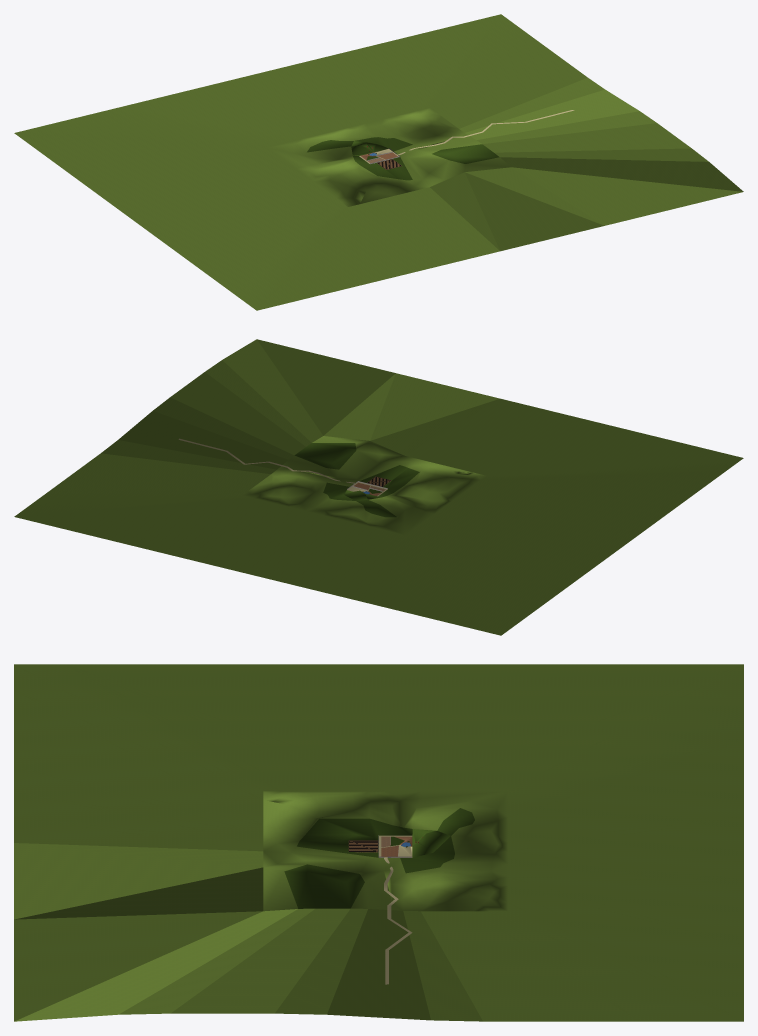
File: ENVO_Farm.obj
3 renders of one model, top to bottom at view 1: azimuth 30°, elevation 25°; view 2: azimuth 150°, elevation 25°; view 3: azimuth 270°, elevation 25°, orthographic. The views are drawn at different scales.
Parts seen in each view (by area): view 1: Farm; view 2: Farm; view 3: Farm.
Part boxes in pixels (bbox=[...]): Farm: bbox=[14, 14, 743, 310]; Farm: bbox=[14, 339, 743, 635]; Farm: bbox=[14, 664, 743, 1021].
Size of what is drawn, in the model's own units: 33743 by 600 by 29124.
Materials: 11 (11 with a texture image).
